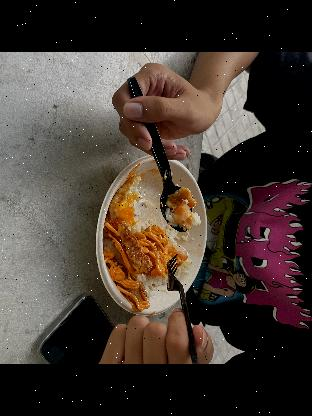Others: (82, 151, 212, 319), (122, 74, 198, 235), (161, 250, 201, 364)
